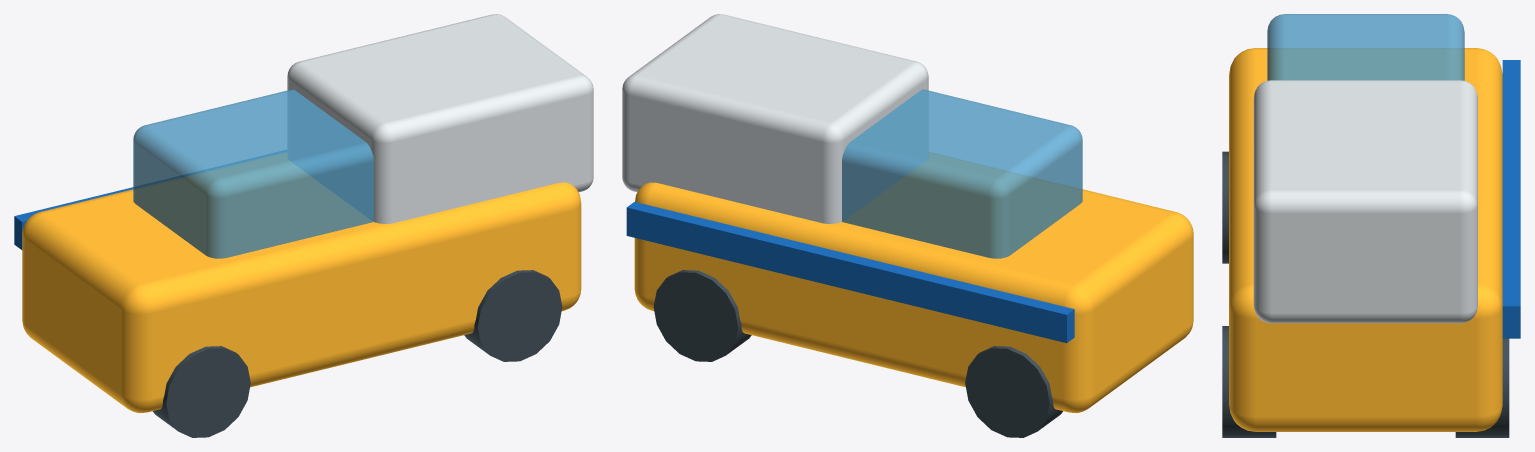
Rendered from service-truck.glb.
3 views of the same model, side by side, from view 1: azimuth 30°, elevation 25°; view 2: azimuth 150°, elevation 25°; view 3: azimuth 270°, elevation 25° (orthographic). The views are drawn at different scales.
Visible parts, largest first — view 1: service truck base vehicle rounded body, service truck rear tool box, service truck base vehicle glass cabin, service truck base vehicle wheel -0.92 0.52, service truck base vehicle wheel 0.92 0.52, service truck blue fleet stripe; view 2: service truck base vehicle rounded body, service truck rear tool box, service truck base vehicle glass cabin, service truck blue fleet stripe, service truck base vehicle wheel -0.92 -0.52, service truck base vehicle wheel 0.92 -0.52; view 3: service truck rear tool box, service truck base vehicle rounded body, service truck base vehicle glass cabin, service truck blue fleet stripe, service truck base vehicle wheel 0.92 0.52, service truck base vehicle wheel 0.92 -0.52, service truck base vehicle wheel -0.92 0.52.
Part boxes in pixels (bbox=[...]): service truck base vehicle rounded body: bbox=[22, 152, 581, 412]; service truck rear tool box: bbox=[287, 14, 593, 223]; service truck base vehicle glass cabin: bbox=[133, 89, 373, 258]; service truck base vehicle wheel -0.92 0.52: bbox=[153, 346, 250, 437]; service truck base vehicle wheel 0.92 0.52: bbox=[464, 270, 562, 361]; service truck blue fleet stripe: bbox=[14, 150, 286, 249]; service truck base vehicle rounded body: bbox=[634, 152, 1193, 412]; service truck rear tool box: bbox=[622, 14, 928, 223]; service truck base vehicle glass cabin: bbox=[842, 89, 1082, 258]; service truck blue fleet stripe: bbox=[626, 202, 1074, 343]; service truck base vehicle wheel -0.92 -0.52: bbox=[965, 346, 1062, 437]; service truck base vehicle wheel 0.92 -0.52: bbox=[653, 270, 751, 361]; service truck rear tool box: bbox=[1253, 80, 1477, 323]; service truck base vehicle rounded body: bbox=[1229, 48, 1502, 431]; service truck base vehicle glass cabin: bbox=[1267, 14, 1464, 80]; service truck blue fleet stripe: bbox=[1502, 60, 1520, 338]; service truck base vehicle wheel 0.92 0.52: bbox=[1222, 326, 1276, 437]; service truck base vehicle wheel 0.92 -0.52: bbox=[1455, 338, 1509, 437]; service truck base vehicle wheel -0.92 0.52: bbox=[1222, 151, 1228, 263].
Bounding box in the file's own units: 2.82 × 1.41 × 1.33.
